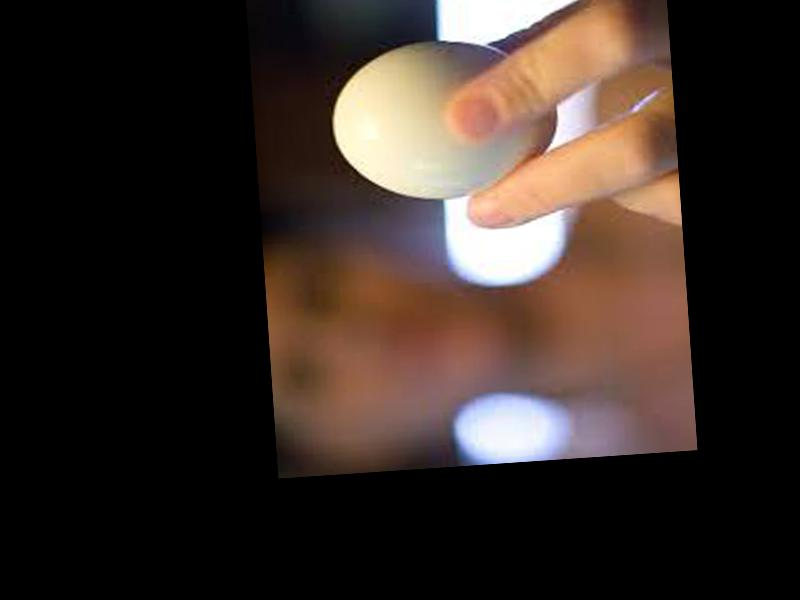Eggs: (327, 35, 563, 209)
